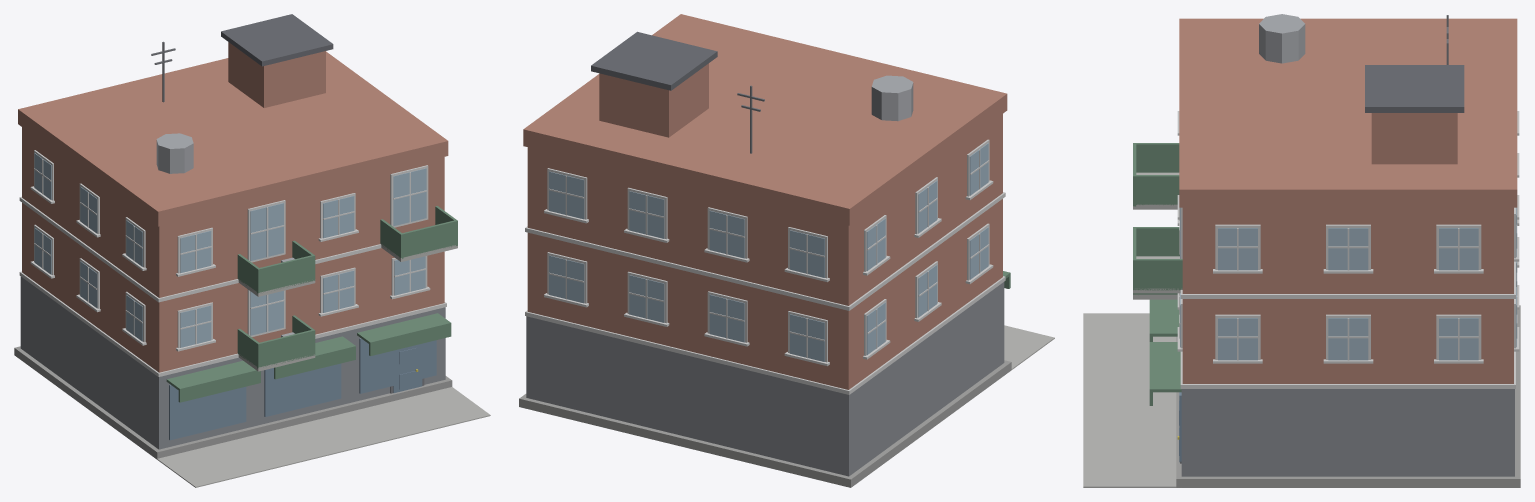
The model's file is Apartman_04.glb.
3 views of the same model, side by side, from view 1: azimuth 30°, elevation 25°; view 2: azimuth 150°, elevation 25°; view 3: azimuth 270°, elevation 25° (orthographic). The views are drawn at different scales.
Visible parts, largest first — view 1: Apartman_04; view 2: Apartman_04; view 3: Apartman_04.
Part boxes in pixels (x1,y1,x2,y2): Apartman_04: [14, 14, 490, 487]; Apartman_04: [519, 14, 1054, 487]; Apartman_04: [1083, 14, 1520, 487].
Size of the model in its own units: 12.4 by 12.3 by 13.2.
